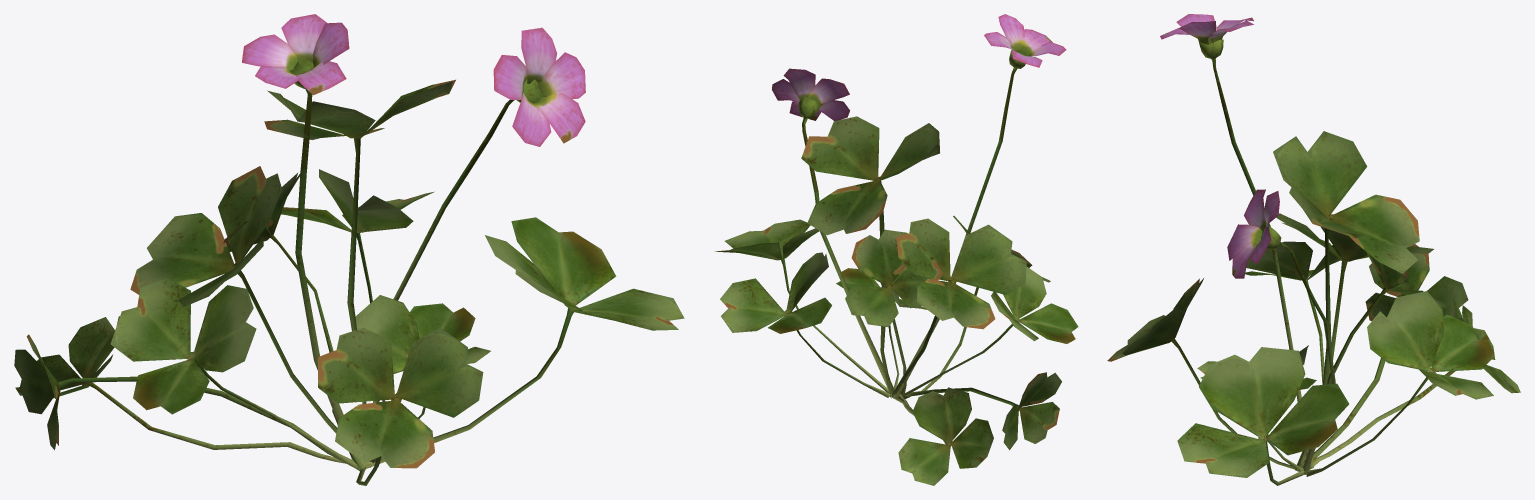
File: shrub_sorrel_01_d.gltf
3 views of the same model, side by side, from view 1: azimuth 30°, elevation 25°; view 2: azimuth 150°, elevation 25°; view 3: azimuth 270°, elevation 25° (orthographic). The views are drawn at different scales.
Parts seen in each view (by area): view 1: shrub_sorrel_01_d; view 2: shrub_sorrel_01_d; view 3: shrub_sorrel_01_d.
Part boxes in pixels (<box>): shrub_sorrel_01_d: <box>14,14,684,485</box>; shrub_sorrel_01_d: <box>715,14,1078,485</box>; shrub_sorrel_01_d: <box>1107,14,1520,485</box>.
Size of the model in its own units: 0.0609 by 0.0544 by 0.0487.
1 material, 1 textured.
